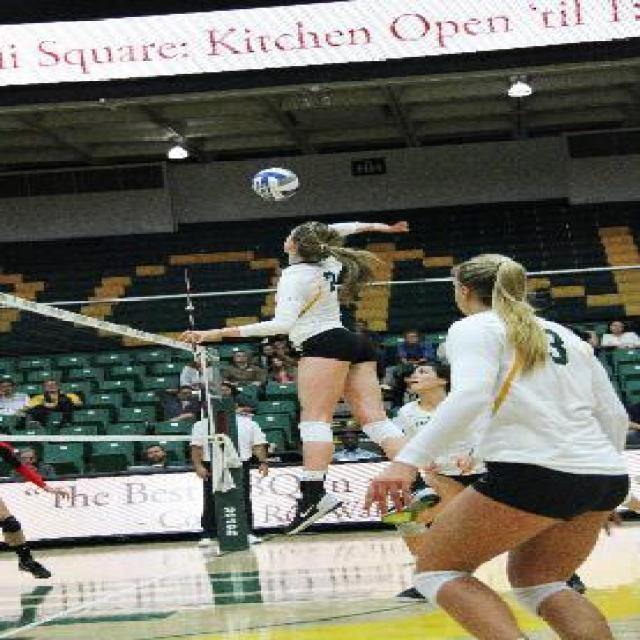volleyball: (252, 167, 302, 201)
